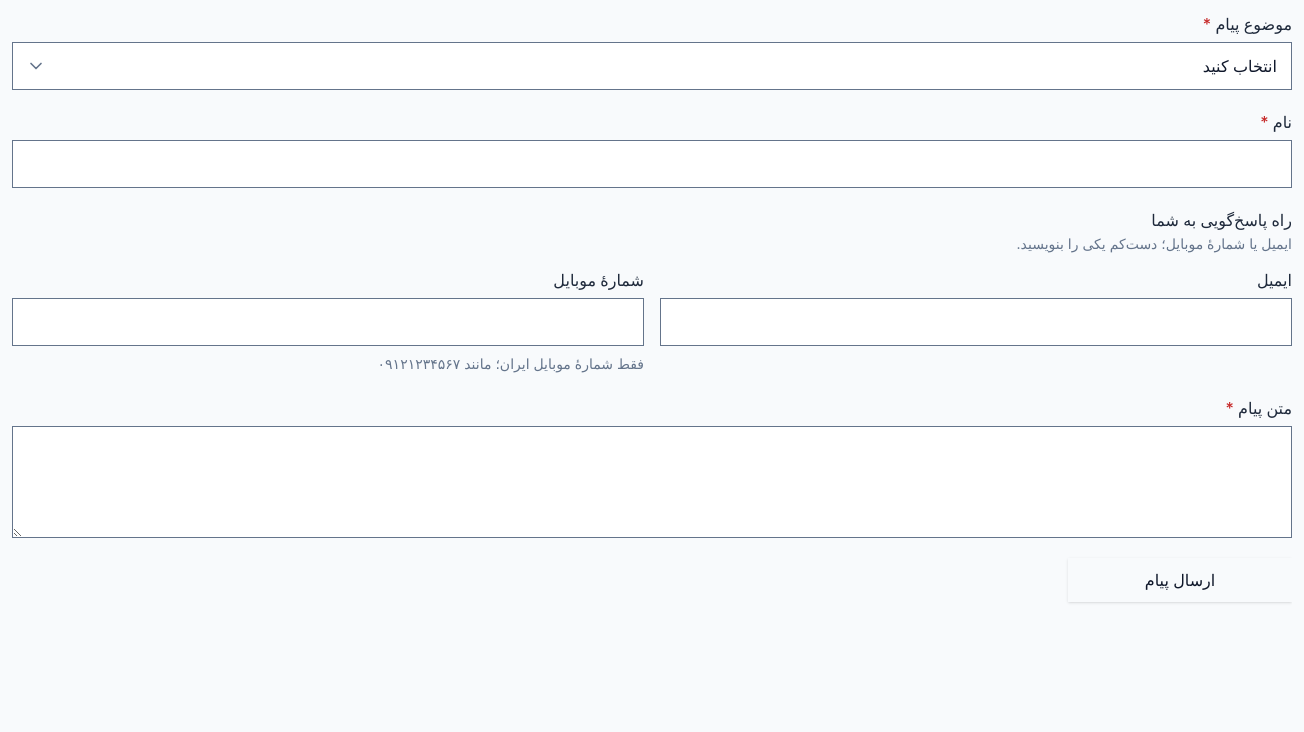
it: a list emptied meanwhile › drops the select and says the message can go again without a subject
Select "انتقاد و شکایت" in the dropdown labelled "موضوع پیام *" at (652, 66), box top-left (12, 42), bottom-right (1292, 90)
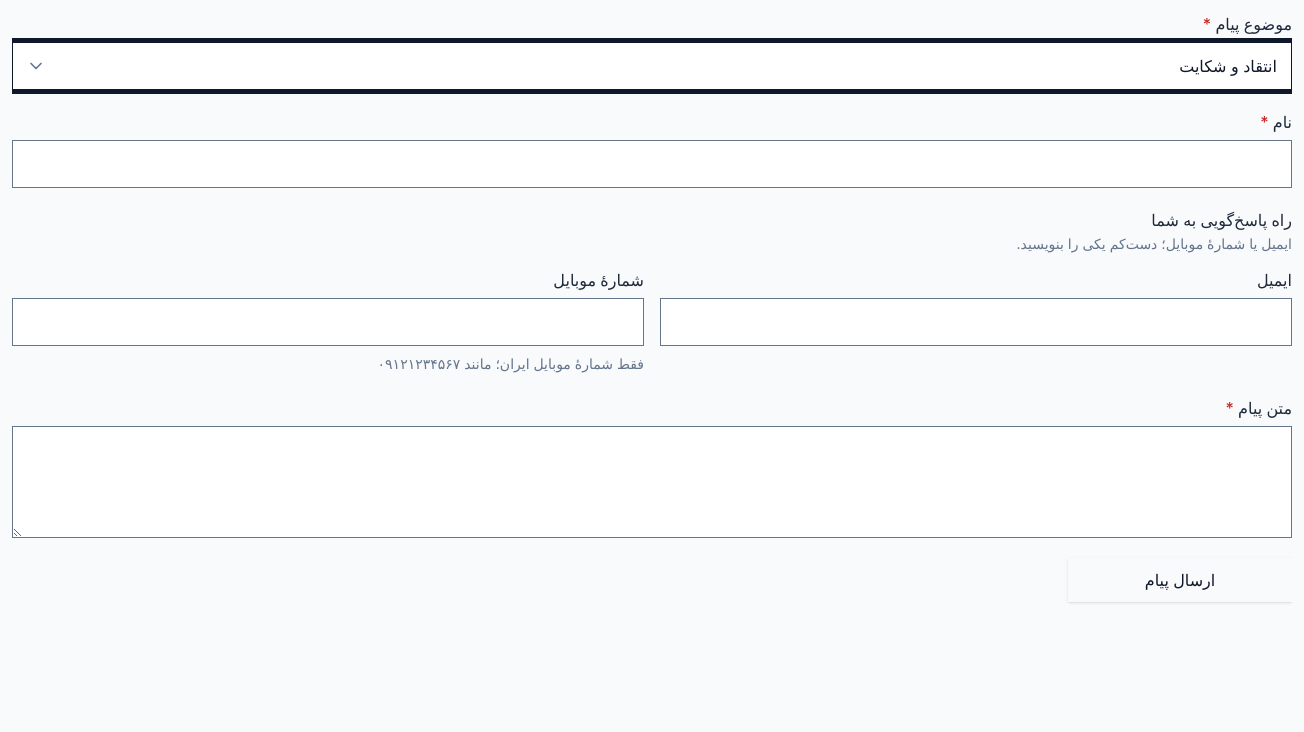
Type "سارا احمدی" into the field labelled "نام *".
click(652, 164); type("سارا احمدی")  # box top-left (13, 141), bottom-right (1291, 187)
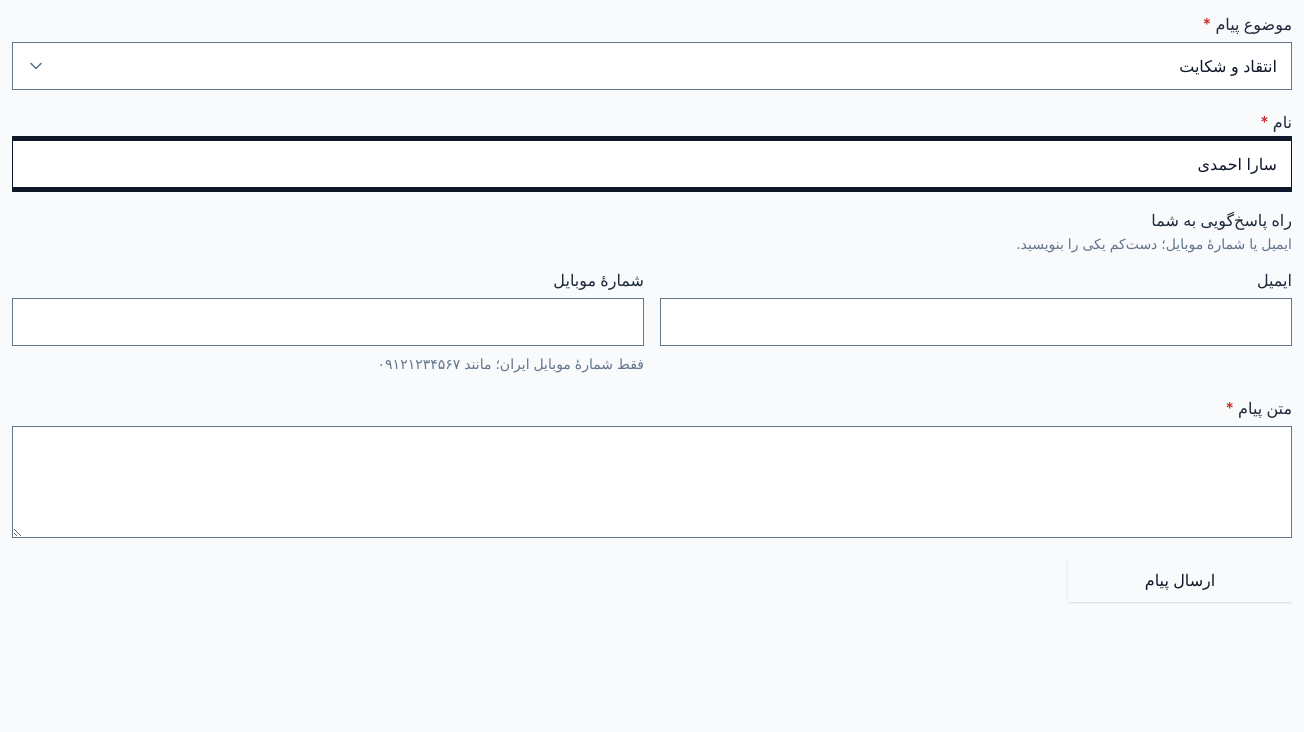
Type "۰۹۱۲ ۱۲۳ ۴۵۶۷" into the field labelled "شمارهٔ موبایل".
click(328, 322); type("۰۹۱۲ ۱۲۳ ۴۵۶۷")  # box top-left (13, 299), bottom-right (643, 345)
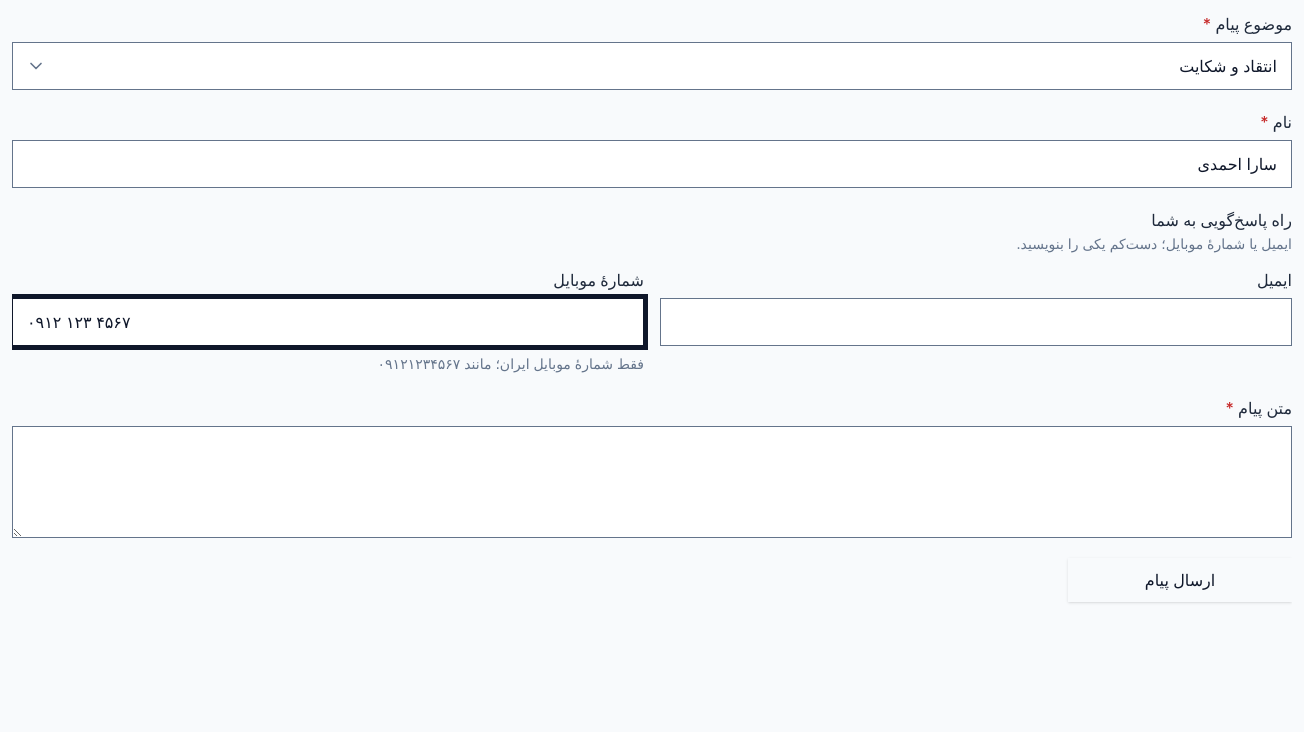
Type "سفارش ۸۴۹۲۳۷۰ هنوز نرسیده است." into the text box labelled "متن پیام *".
click(652, 482); type("سفارش ۸۴۹۲۳۷۰ هنوز نرسیده است.")  # box top-left (12, 426), bottom-right (1292, 538)
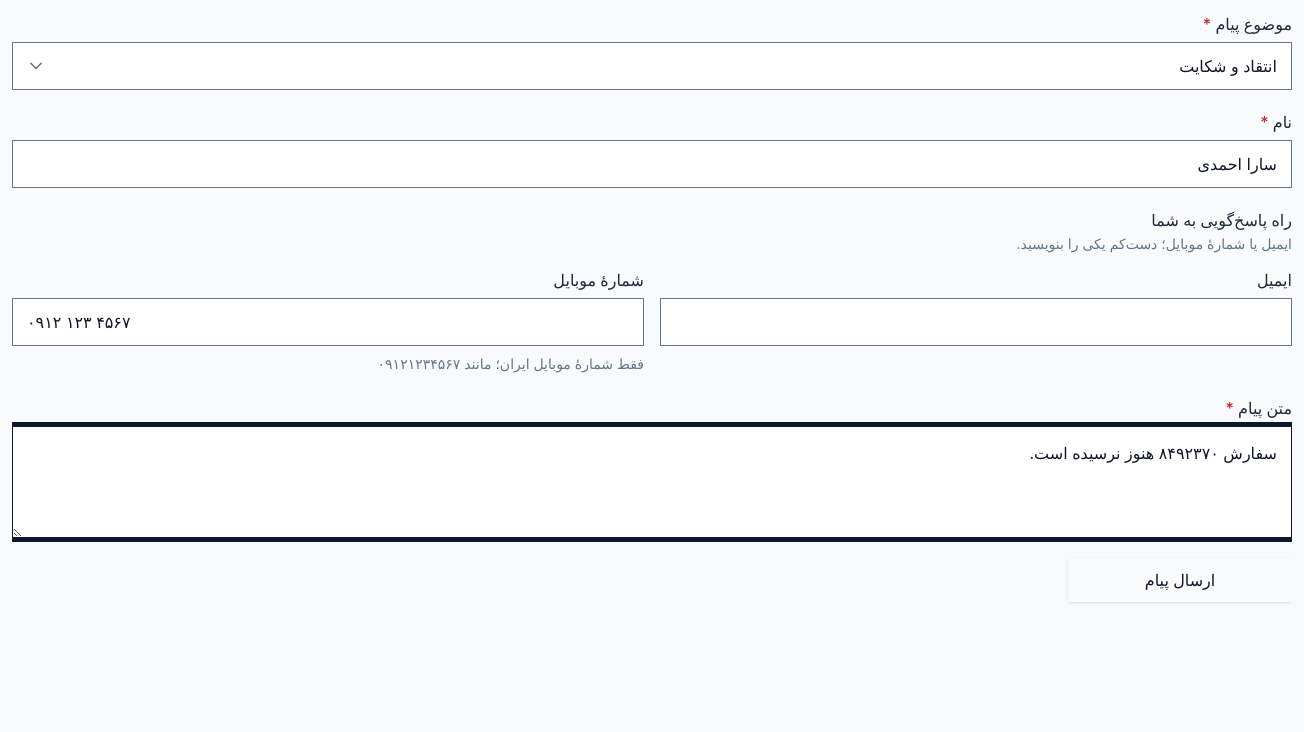
Click the button "ارسال پیام".
click(1180, 580)  # box top-left (1068, 558), bottom-right (1292, 602)
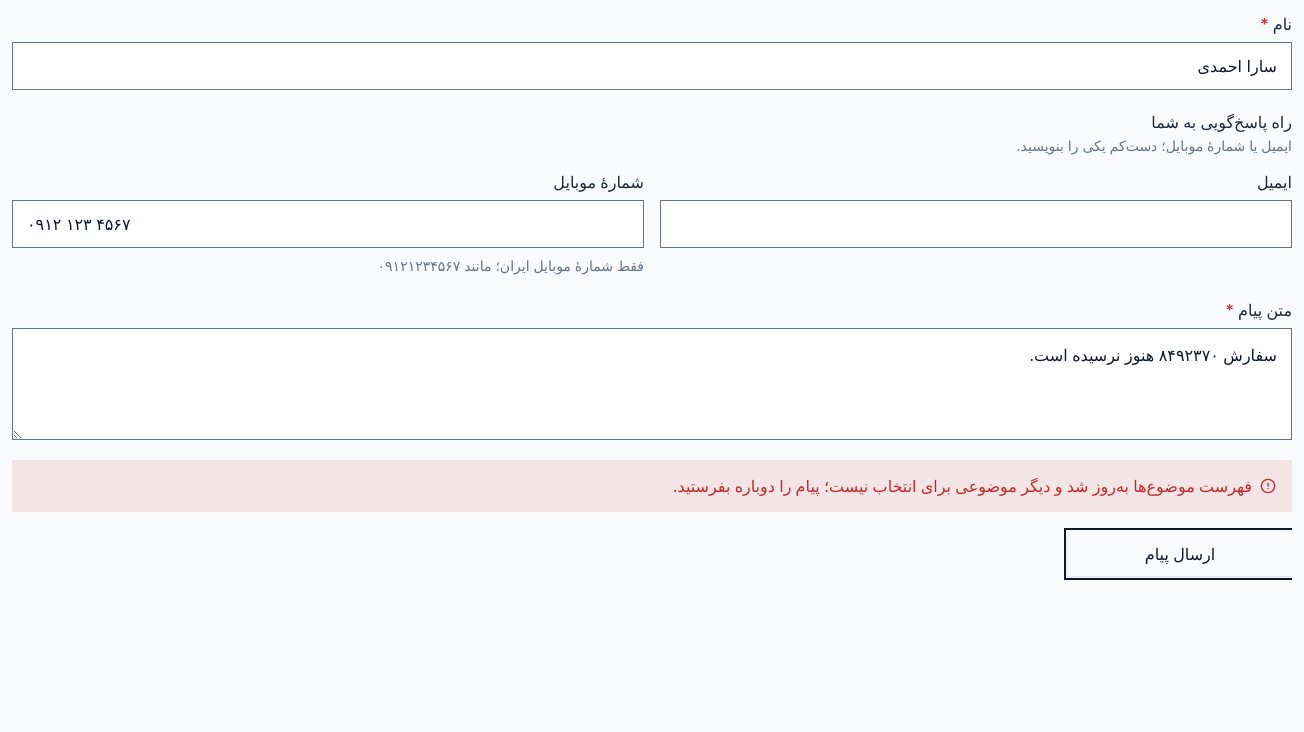
Now the message shows "دیگر موضوعی برای انتخاب نیست", box top-left (673, 476), bottom-right (1252, 496)
Now the dropdown is gone
